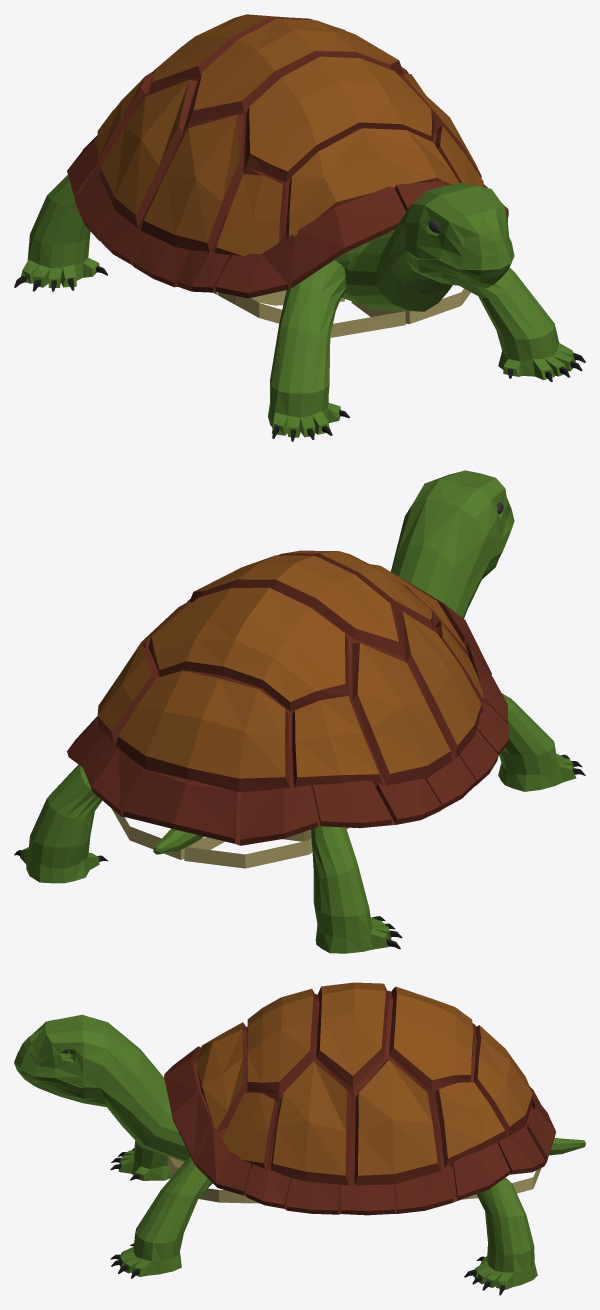
The model's file is tortoise.glb.
3 views of the same model, one above another, from view 1: azimuth 30°, elevation 25°; view 2: azimuth 150°, elevation 25°; view 3: azimuth 270°, elevation 25° (orthographic). The views are drawn at different scales.
Visible parts, largest first — view 1: Node; view 2: Node; view 3: Node.
Part boxes in pixels (box(x1,y1,x2,y2)): Node: box(14, 14, 585, 441); Node: box(14, 470, 585, 953); Node: box(14, 982, 585, 1295).
Size of the model in its own units: 14.02 by 9.54 by 21.62.
